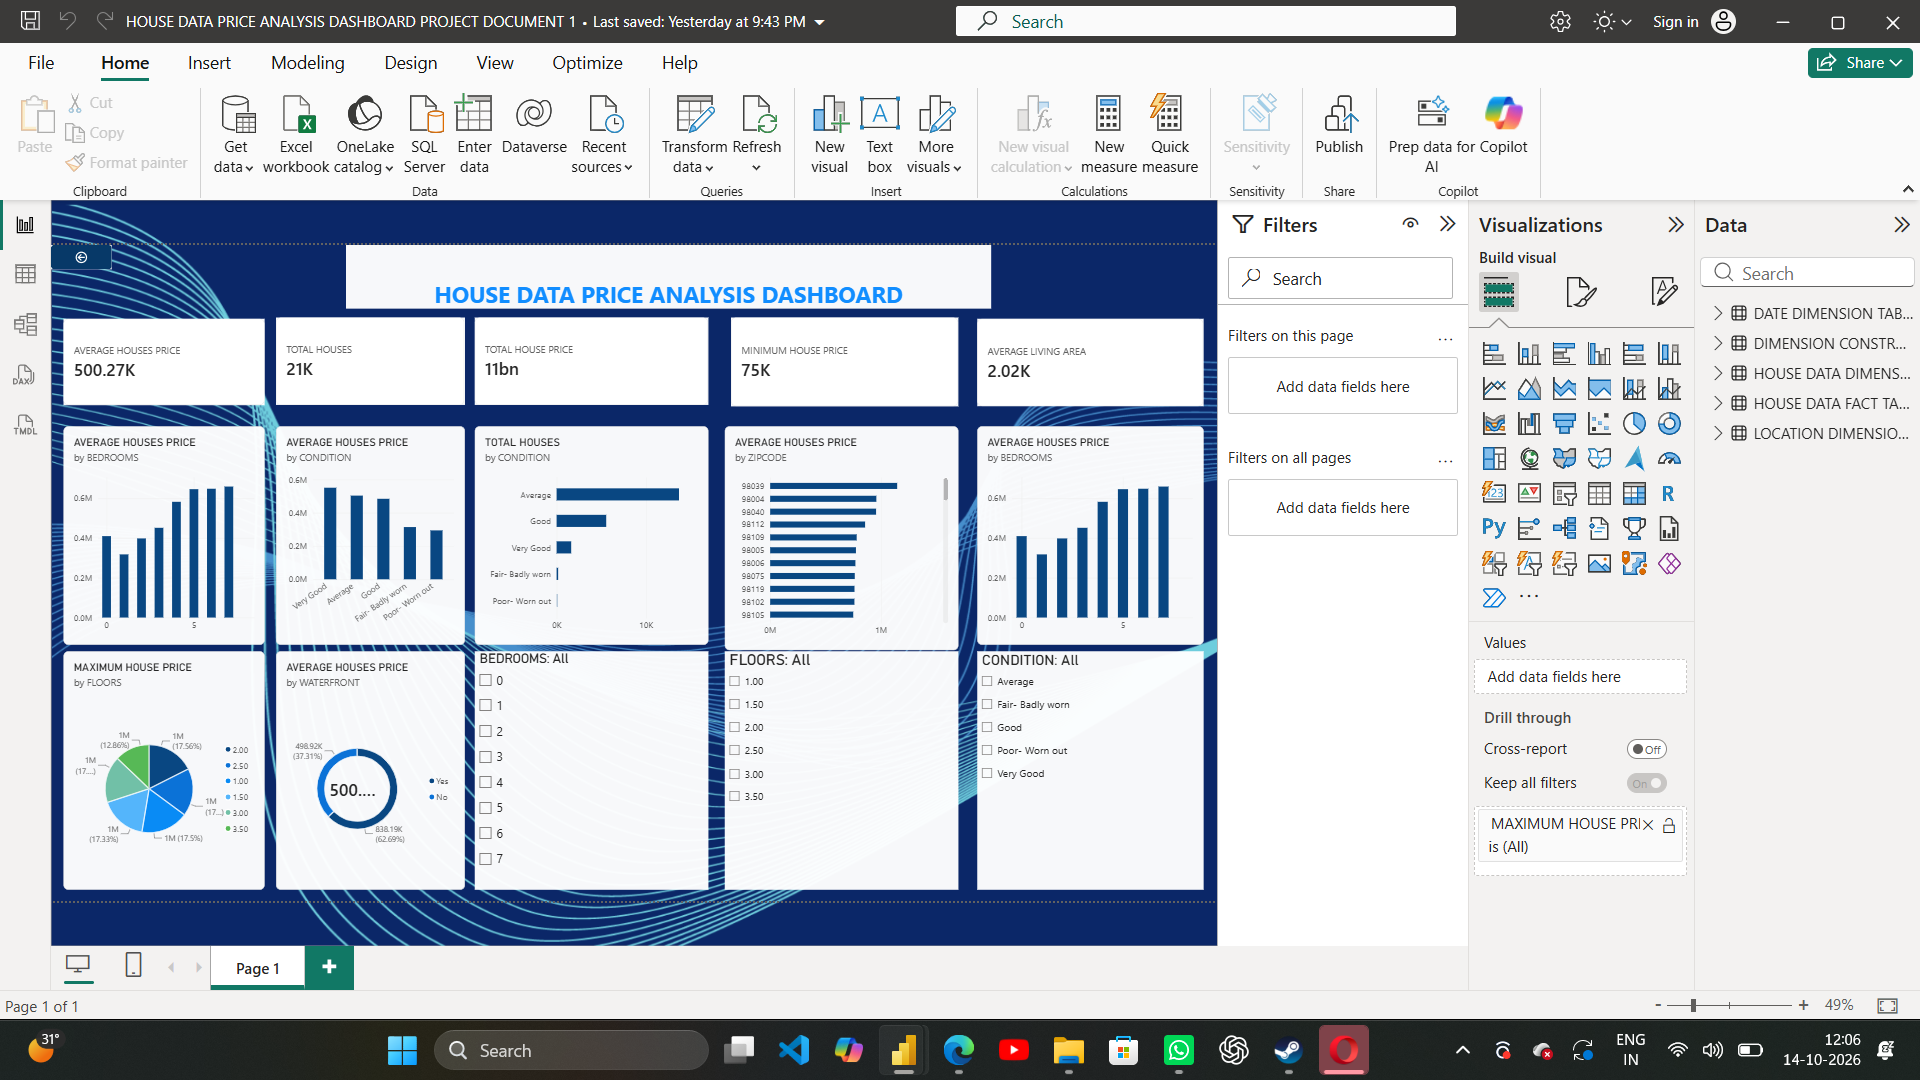

This screenshot's page, from the dashboard's own definition file:
{"tool":"powerbi","page":{"name":"Page 1","canvas":[1920,1080],"ordinal":0},"visuals":[{"type":"textbox","box":[485.8,0,1062.1,105],"z":0},{"type":"cardVisual","fields":{"Data":["HOUSE DATA FACT TABLE.AVERAGE HOUSES PRICE"]},"box":[20.6,121.4,331.4,142],"z":1000},{"type":"cardVisual","fields":{"Data":["HOUSE DATA FACT TABLE.TOTAL HOUSE PRICE"]},"box":[697.8,119.4,384.9,144.1],"z":2000},{"type":"cardVisual","fields":{"Data":["HOUSE DATA FACT TABLE.MINIMUM HOUSE PRICE"]},"box":[1119.7,119.4,374.6,146.1],"z":3000},{"type":"cardVisual","fields":{"Data":["HOUSE DATA FACT TABLE.TOTAL HOUSES"]},"box":[370.5,119.4,310.8,144.1],"z":4000},{"type":"cardVisual","fields":{"Data":["HOUSE DATA FACT TABLE.AVERAGE LIVING AREA"]},"box":[1525.2,121.4,372.6,144.1],"z":5000},{"type":"clusteredColumnChart","fields":{"Category":["HOUSE DATA FACT TABLE.BEDROOMS"],"Y":["HOUSE DATA FACT TABLE.AVERAGE HOUSES PRICE"]},"box":[20.6,298.5,331.4,360.2],"z":6000},{"type":"clusteredBarChart","fields":{"Category":["HOUSE DATA FACT TABLE.CONDITION"],"Y":["HOUSE DATA FACT TABLE.TOTAL HOUSES"]},"box":[697.8,298.5,384.9,360.2],"z":7000},{"type":"clusteredBarChart","fields":{"Category":["LOCATION DIMENSION TABLE.ZIPCODE"],"Y":["HOUSE DATA FACT TABLE.AVERAGE HOUSES PRICE"]},"box":[1109.4,298.5,384.9,368.4],"z":8000},{"type":"clusteredColumnChart","fields":{"Category":["HOUSE DATA FACT TABLE.CONDITION"],"Y":["HOUSE DATA FACT TABLE.AVERAGE HOUSES PRICE"]},"box":[370.5,298.5,310.8,360.2],"z":9000},{"type":"clusteredColumnChart","fields":{"Category":["HOUSE DATA FACT TABLE.BEDROOMS"],"Y":["HOUSE DATA FACT TABLE.AVERAGE HOUSES PRICE"]},"box":[1525.2,298.5,372.6,360.2],"z":10000},{"type":"pieChart","fields":{"Y":["HOUSE DATA FACT TABLE.MAXIMUM HOUSE PRICE"],"Category":["HOUSE DATA FACT TABLE.FLOORS"]},"box":[20.6,669,331.4,393.1],"z":11000},{"type":"donutChart","fields":{"Category":["HOUSE DATA FACT TABLE.WATERFRONT"],"Y":["HOUSE DATA FACT TABLE.AVERAGE HOUSES PRICE"]},"box":[370.5,669,310.8,393.1],"z":12000},{"type":"actionButton","box":[0,0,100,40],"z":13000},{"type":"slicer","fields":{"Values":["HOUSE DATA FACT TABLE.BEDROOMS"]},"box":[698,669,385,393],"z":14000},{"type":"slicer","fields":{"Values":["HOUSE DATA FACT TABLE.FLOORS"]},"box":[1109,669,385,393],"z":15000},{"type":"slicer","fields":{"Values":["HOUSE DATA FACT TABLE.CONDITION"]},"box":[1525.2,669,372.6,393.1],"z":16000}]}

Visuals, with their boxes on the page's 1920x1080 design canvas (x1, y1, x2, y2). These are canvas units, not pixel positions in the 1920x1080 screenshot, which may show the page scaled, cropped or inside an application window:
textbox: left=486, top=0, right=1548, bottom=105
cardVisual - HOUSE DATA FACT TABLE.AVERAGE HOUSES PRICE: left=21, top=121, right=352, bottom=263
cardVisual - HOUSE DATA FACT TABLE.TOTAL HOUSE PRICE: left=698, top=119, right=1083, bottom=264
cardVisual - HOUSE DATA FACT TABLE.MINIMUM HOUSE PRICE: left=1120, top=119, right=1494, bottom=266
cardVisual - HOUSE DATA FACT TABLE.TOTAL HOUSES: left=370, top=119, right=681, bottom=264
cardVisual - HOUSE DATA FACT TABLE.AVERAGE LIVING AREA: left=1525, top=121, right=1898, bottom=266
clusteredColumnChart - HOUSE DATA FACT TABLE.BEDROOMS x HOUSE DATA FACT TABLE.AVERAGE HOUSES PRICE: left=21, top=298, right=352, bottom=659
clusteredBarChart - HOUSE DATA FACT TABLE.CONDITION x HOUSE DATA FACT TABLE.TOTAL HOUSES: left=698, top=298, right=1083, bottom=659
clusteredBarChart - LOCATION DIMENSION TABLE.ZIPCODE x HOUSE DATA FACT TABLE.AVERAGE HOUSES PRICE: left=1109, top=298, right=1494, bottom=667
clusteredColumnChart - HOUSE DATA FACT TABLE.CONDITION x HOUSE DATA FACT TABLE.AVERAGE HOUSES PRICE: left=370, top=298, right=681, bottom=659
clusteredColumnChart - HOUSE DATA FACT TABLE.BEDROOMS x HOUSE DATA FACT TABLE.AVERAGE HOUSES PRICE: left=1525, top=298, right=1898, bottom=659
pieChart - HOUSE DATA FACT TABLE.MAXIMUM HOUSE PRICE x HOUSE DATA FACT TABLE.FLOORS: left=21, top=669, right=352, bottom=1062
donutChart - HOUSE DATA FACT TABLE.WATERFRONT x HOUSE DATA FACT TABLE.AVERAGE HOUSES PRICE: left=370, top=669, right=681, bottom=1062
actionButton: left=0, top=0, right=100, bottom=40
slicer - HOUSE DATA FACT TABLE.BEDROOMS: left=698, top=669, right=1083, bottom=1062
slicer - HOUSE DATA FACT TABLE.FLOORS: left=1109, top=669, right=1494, bottom=1062
slicer - HOUSE DATA FACT TABLE.CONDITION: left=1525, top=669, right=1898, bottom=1062
